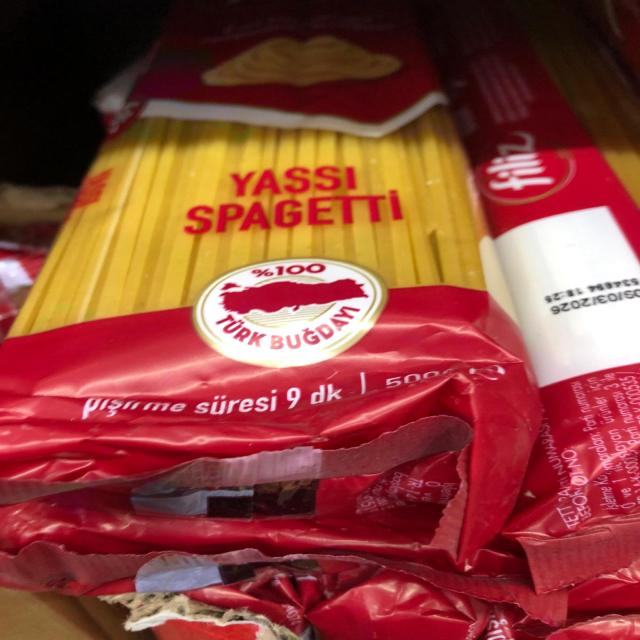spaghetti: (0, 0, 527, 468)
